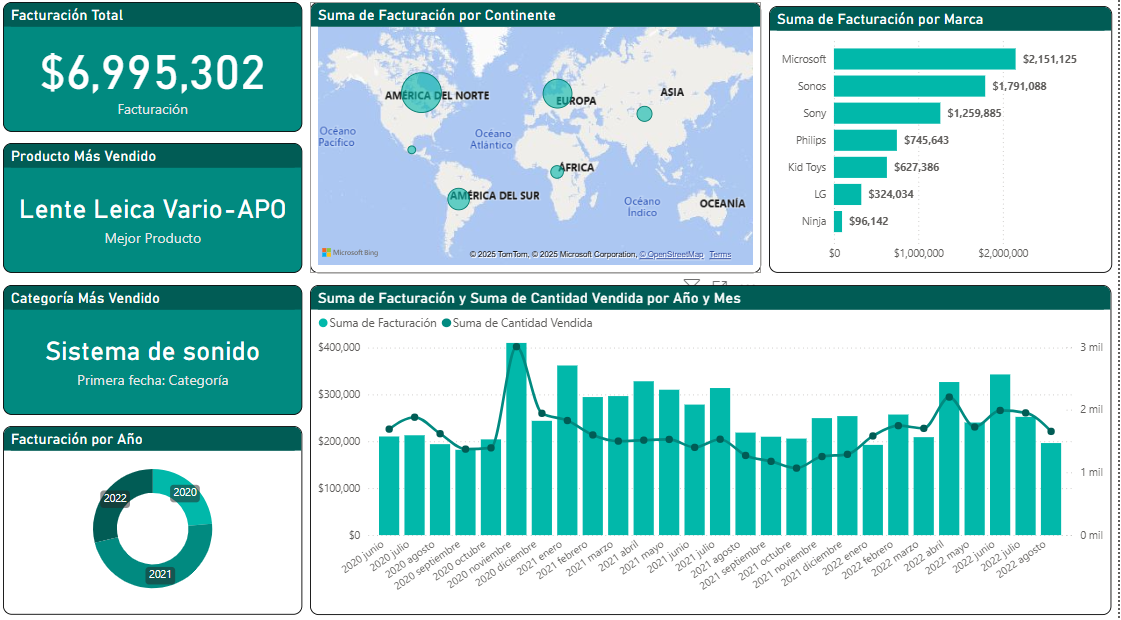

The dashboard page shown, as its layout file describes it:
{"tool":"powerbi","page":{"name":"Página 1","canvas":[1280,720],"ordinal":0},"visuals":[{"type":"card","title":"Facturación Total","fields":{"Values":["Sum(Ventas Tech.Facturación)"]},"box":[8.8,7.5,341.2,147.5],"z":0},{"type":"card","title":"Categoría Más Vendido","fields":{"Values":["Min(Ventas Tech.Categoría)"]},"box":[8.8,330,341.2,147.5],"z":1000},{"type":"map","fields":{"Category":["Ventas Tech.Continente"],"Size":["Sum(Ventas Tech.Facturación)"]},"box":[358.8,7.5,513.8,308.8],"z":2000},{"type":"lineStackedColumnComboChart","fields":{"Category":["Ventas Tech.Fecha De Venta.Variación.Jerarquía de fechas.Año","Ventas Tech.Fecha De Venta.Variación.Jerarquía de fechas.Mes"],"Y":["Sum(Ventas Tech.Facturación)"],"Y2":["Sum(Ventas Tech.Cantidad Vendida)"]},"box":[358.8,330,912.5,376.2],"z":3000},{"type":"clusteredBarChart","fields":{"Category":["Ventas Tech.Marca"],"Y":["Sum(Ventas Tech.Facturación)"]},"box":[881.2,12.5,391.2,303.8],"z":4000},{"type":"card","title":"Producto Más Vendido","fields":{"Values":["Min(Ventas Tech.Producto)"]},"box":[8.8,168.8,341.2,147.5],"z":5000},{"type":"donutChart","title":"Facturación por Año","fields":{"Y":["Sum(Ventas Tech.Facturación)"],"Category":["Ventas Tech.Fecha De Venta.Variación.Jerarquía de fechas.Año"]},"box":[8.8,491.2,341.2,215],"z":6000}]}

Visuals, with their boxes in screenshot pixels (x1, y1, x2, y2), scaled from the page's 1280x720 canvas onto the 1121x620 screenshot:
"Facturación Total" card: [x1=8, y1=6, x2=307, y2=133]
"Categoría Más Vendido" card: [x1=8, y1=284, x2=307, y2=411]
map - Ventas Tech.Continente x Sum(Ventas Tech.Facturación): [x1=314, y1=6, x2=764, y2=272]
lineStackedColumnComboChart - Ventas Tech.Fecha De Venta.Variación.Jerarquía de fechas.Año x Ventas Tech.Fecha De Venta.Variación.Jerarquía de fechas.Mes: [x1=314, y1=284, x2=1113, y2=608]
clusteredBarChart - Ventas Tech.Marca x Sum(Ventas Tech.Facturación): [x1=772, y1=11, x2=1114, y2=272]
"Producto Más Vendido" card: [x1=8, y1=145, x2=307, y2=272]
"Facturación por Año" donutChart: [x1=8, y1=423, x2=307, y2=608]
